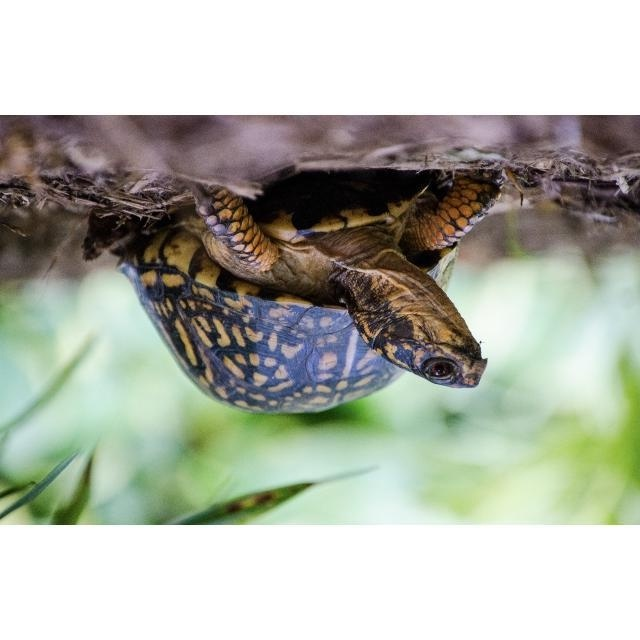turtle: (119, 173, 505, 416)
